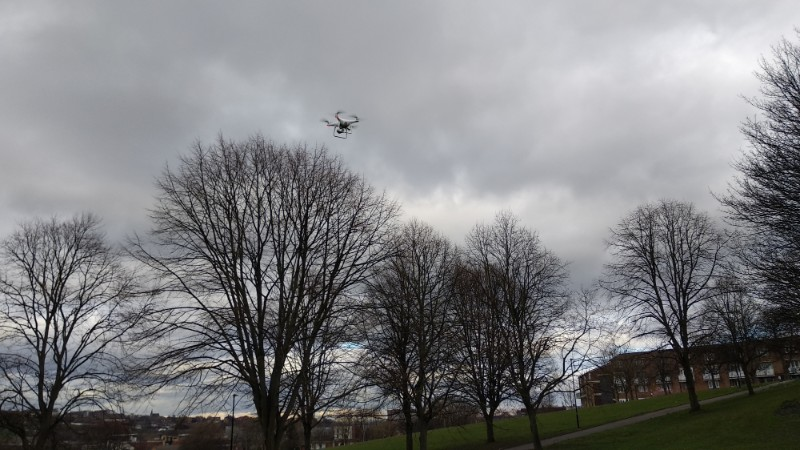drone: (322, 110, 364, 139)
